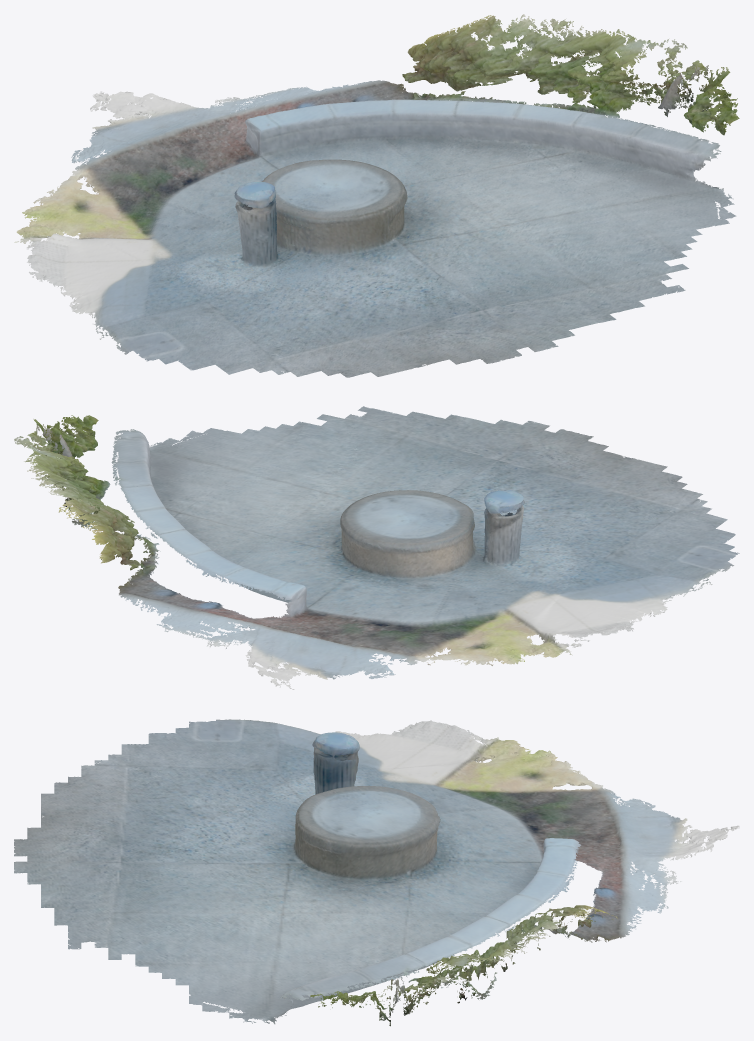
File: concrete-cir.glb
The picture shows the model from 3 angles, top to bottom: view 1: azimuth 30°, elevation 25°; view 2: azimuth 150°, elevation 25°; view 3: azimuth 270°, elevation 25°; orthographic projection. The views are drawn at different scales.
Size of the model in its own units: 11.54 by 1.37 by 10.78.
